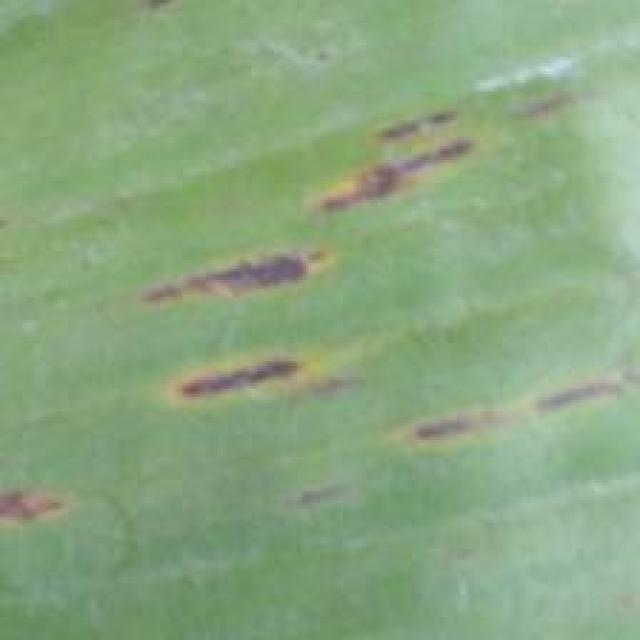Early_leaf_spot: (290, 104, 500, 235), (386, 354, 629, 455), (150, 338, 365, 421), (123, 237, 339, 316), (0, 459, 86, 543), (504, 78, 601, 148)
